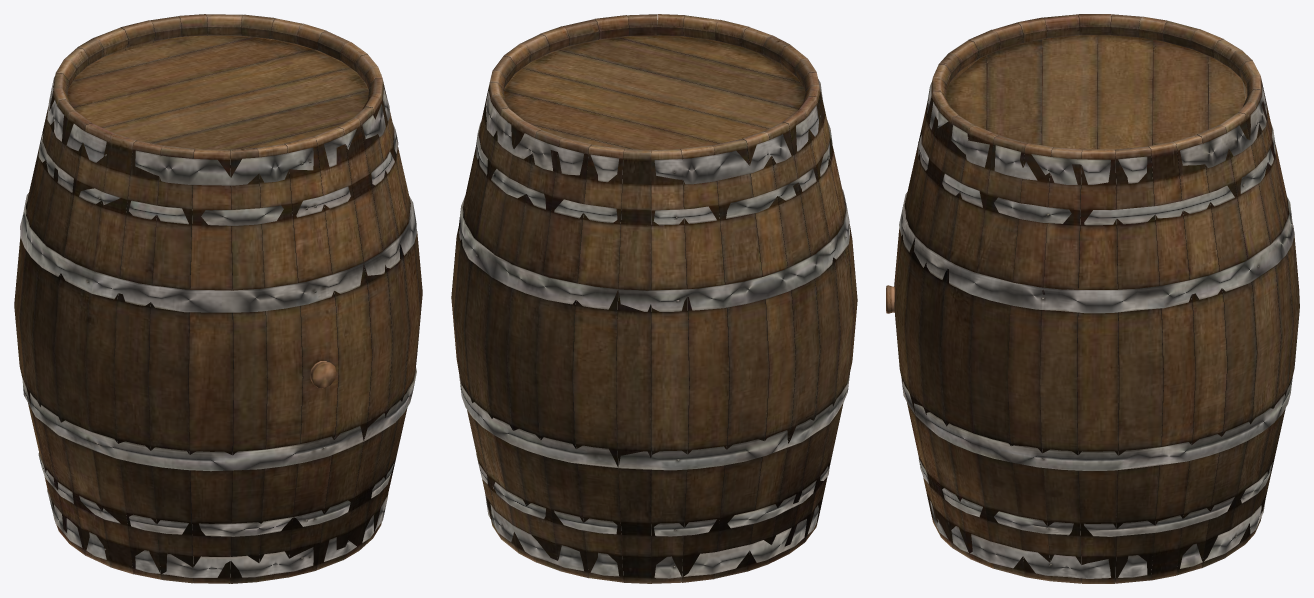
Rendered from wine_barrel_01.glb.
3 renders of one model, left to right at view 1: azimuth 30°, elevation 25°; view 2: azimuth 150°, elevation 25°; view 3: azimuth 270°, elevation 25°, orthographic.
Visible parts, largest first — view 1: wine_barrel_01, wine_barrel_01_Lid, wine_barrel_01_bung; view 2: wine_barrel_01, wine_barrel_01_Lid; view 3: wine_barrel_01, wine_barrel_01_Lid.
Part boxes in pixels (x1,y1,x2,y2): wine_barrel_01: (14,14,422,583); wine_barrel_01_Lid: (67,36,368,149); wine_barrel_01_bung: (310,361,336,388); wine_barrel_01: (451,14,857,583); wine_barrel_01_Lid: (503,36,805,152); wine_barrel_01: (894,14,1299,583); wine_barrel_01_Lid: (946,35,1247,149).
Bounding box in the file's own units: 0.7419 × 0.8695 × 0.756.
1 material, 1 textured.
